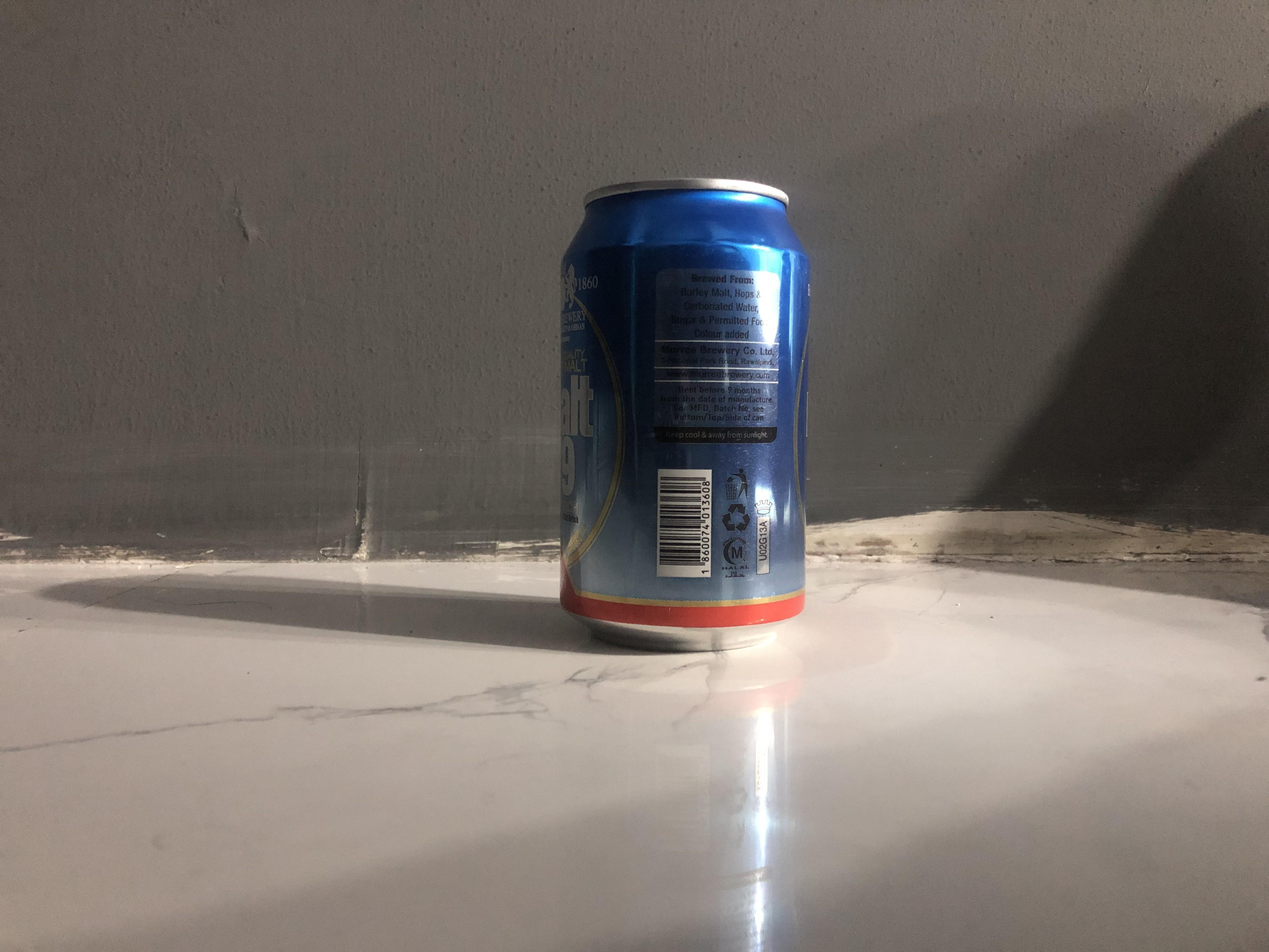tin can: (553, 171, 815, 658)
